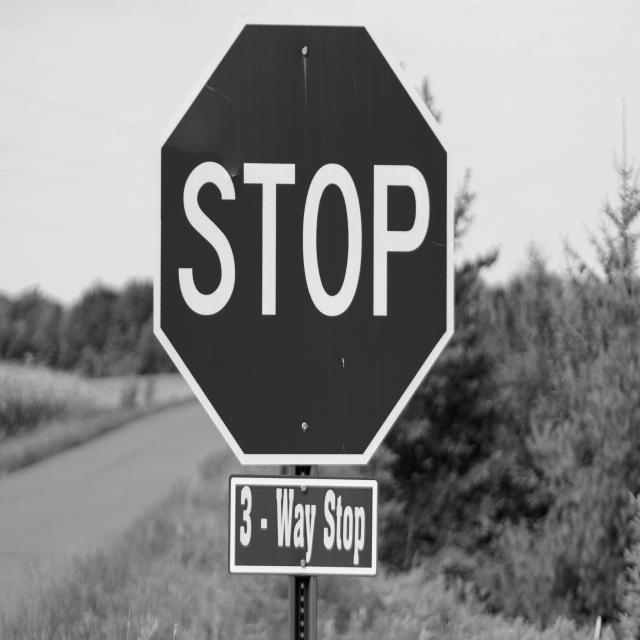Stop-sign: (134, 0, 484, 481)
